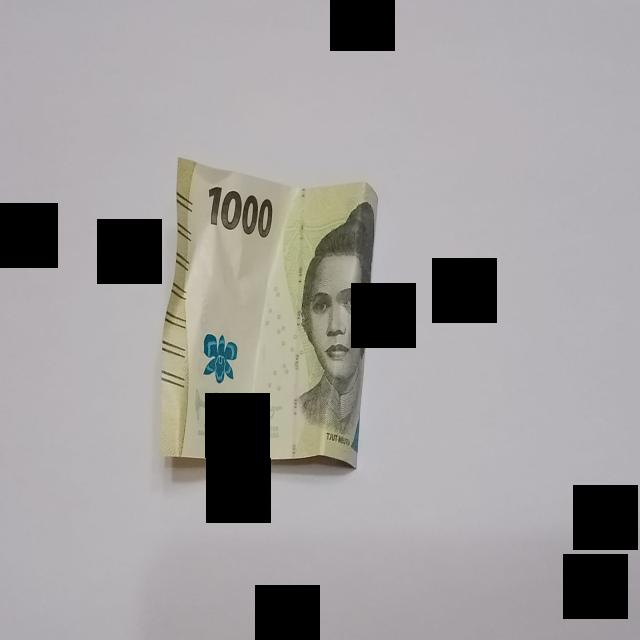seribu rupiah: (160, 158, 378, 467)
